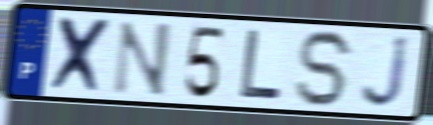5: (182, 24, 227, 100)
J: (359, 33, 412, 112)
L: (237, 27, 284, 104)
N: (109, 19, 175, 99)
S: (294, 28, 358, 110)
X: (47, 14, 117, 97)
